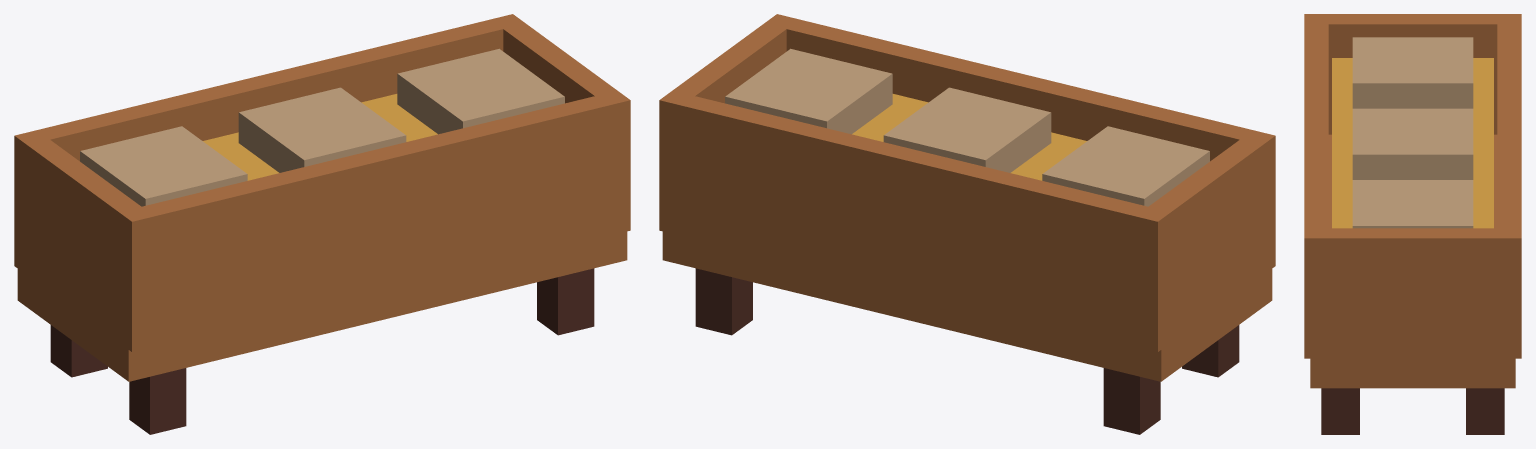
3 views of the same model, side by side, from view 1: azimuth 30°, elevation 25°; view 2: azimuth 150°, elevation 25°; view 3: azimuth 270°, elevation 25° (orthographic). The views are drawn at different scales.
Parts seen in each view (by area): view 1: root_pal_woodWarm, root_pal_khakiLight, root_pal_hairBrown, root_pal_mustard; view 2: root_pal_woodWarm, root_pal_khakiLight, root_pal_hairBrown, root_pal_mustard; view 3: root_pal_woodWarm, root_pal_khakiLight, root_pal_mustard, root_pal_hairBrown.
Part boxes in pixels (box(x1,y1,x2,y2)): root_pal_woodWarm: box(14, 14, 630, 381); root_pal_khakiLight: box(80, 48, 564, 206); root_pal_hairBrown: box(50, 268, 594, 434); root_pal_mustard: box(203, 94, 437, 180); root_pal_woodWarm: box(659, 14, 1275, 381); root_pal_khakiLight: box(725, 48, 1209, 206); root_pal_hairBrown: box(695, 268, 1239, 434); root_pal_mustard: box(852, 94, 1086, 180); root_pal_woodWarm: box(1304, 14, 1521, 388); root_pal_khakiLight: box(1352, 37, 1473, 228); root_pal_mustard: box(1332, 58, 1493, 228); root_pal_hairBrown: box(1321, 388, 1504, 434).
Size of the model in its own units: 2.2 by 0.955 by 0.9.
